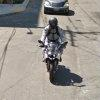Motorcycle: (32, 18, 76, 86)
